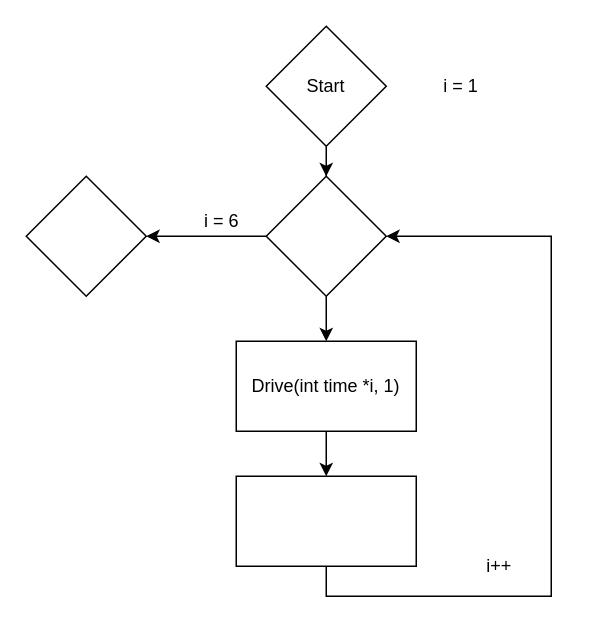
Some shapes in this 590 by 635 pixel diagram are drawn without their labels. The shapes that lost their labels are listed below. From the top down, each one's centre as x and y in pixels, then its label:
At point 85,235: "stop".
At point 325,520: "Drive(int time *i, -1)".
